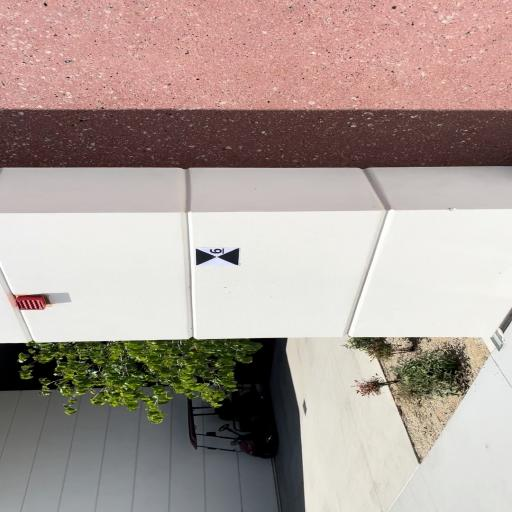target6: (197, 247, 242, 266)
